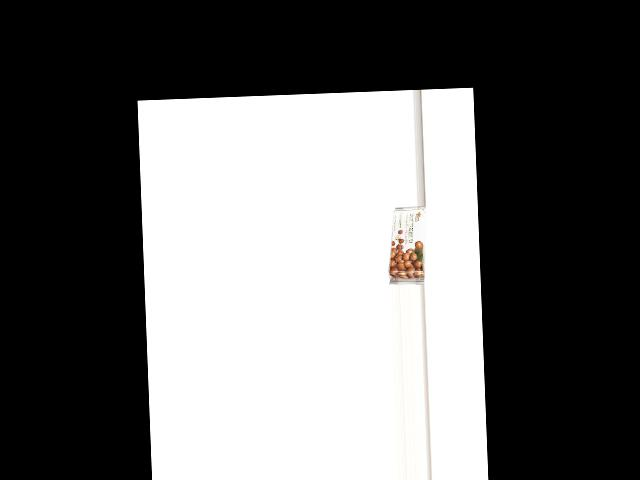chocolate: (385, 205, 426, 284)
